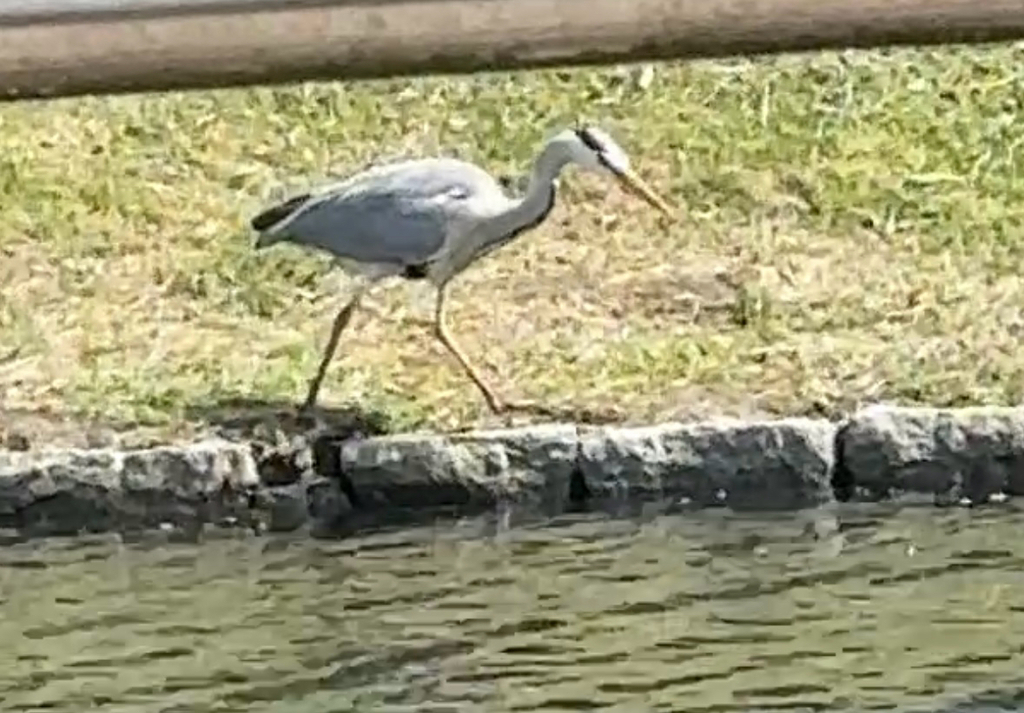heron: (242, 118, 672, 437)
